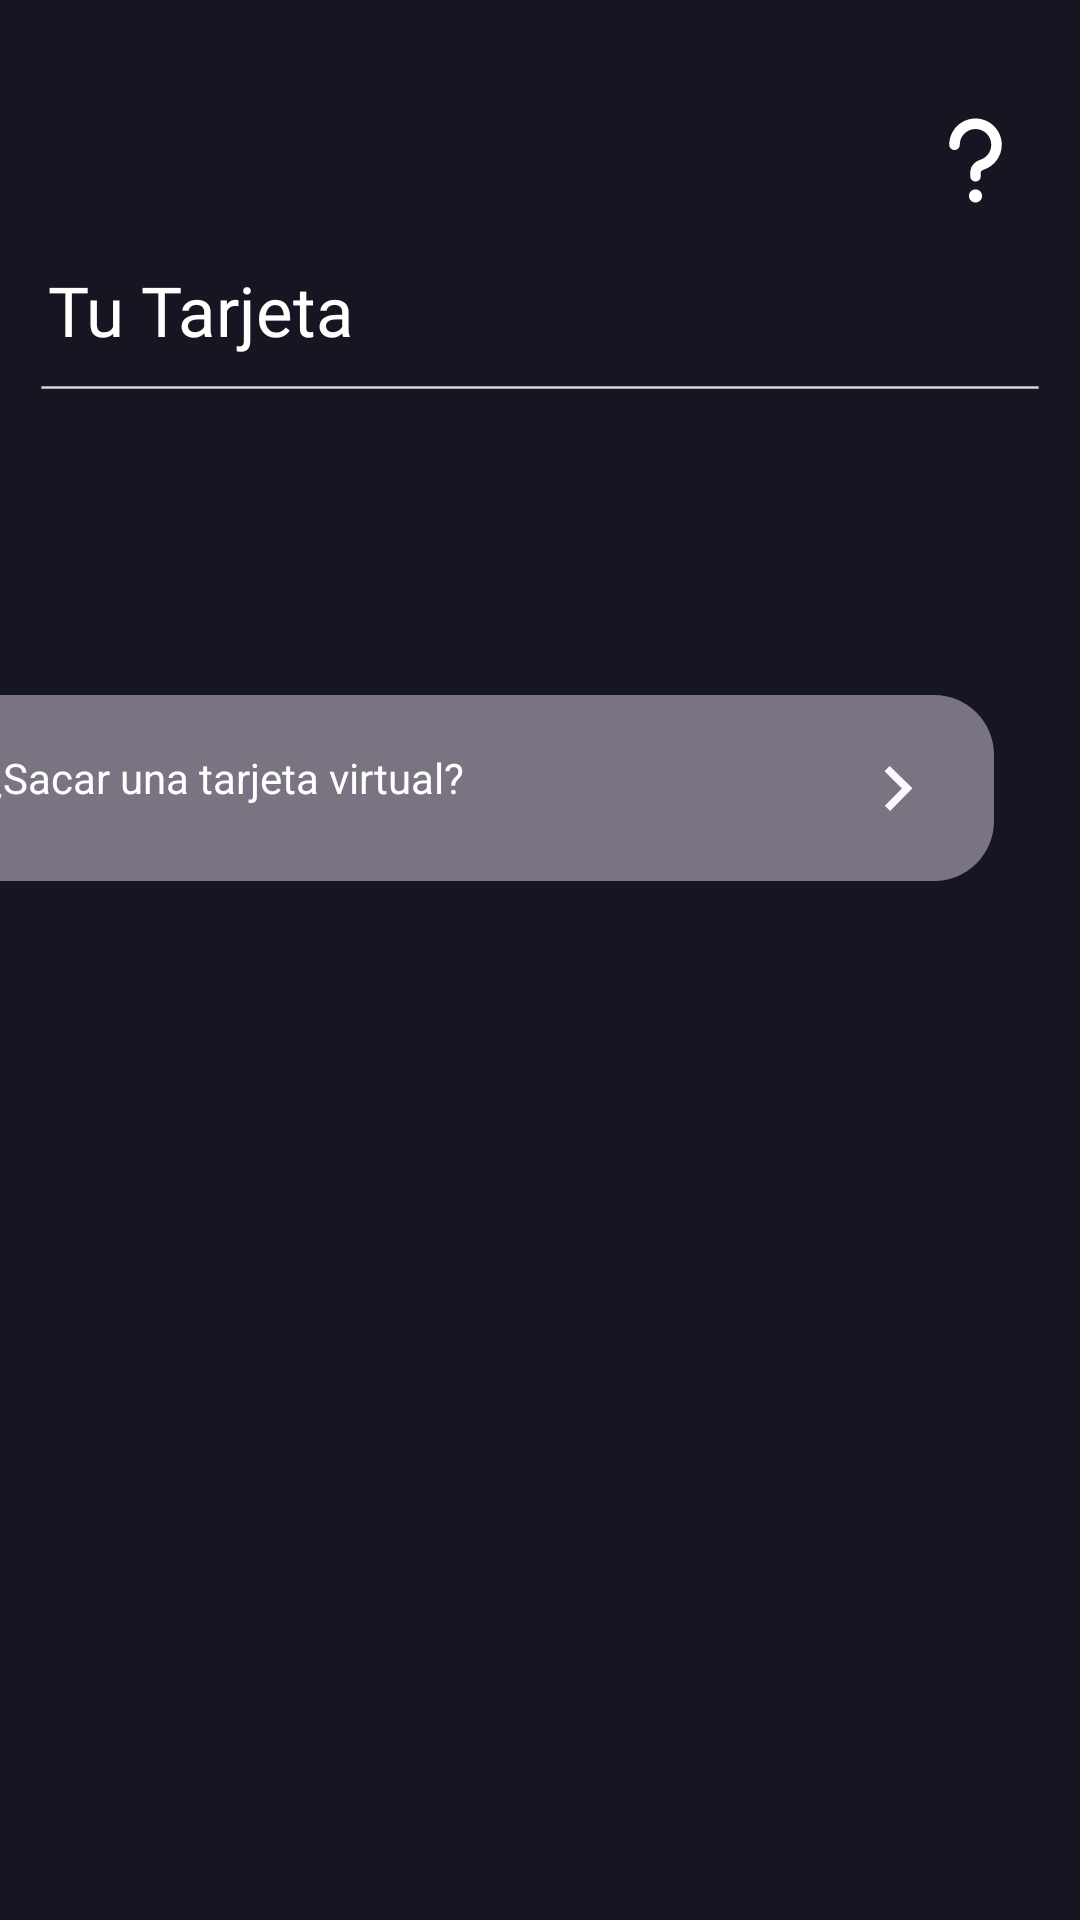

Where icons sit on this 1080px×1920px app screen, as (x1, y1, x2, y2):
question full: (949, 118, 1002, 203)
